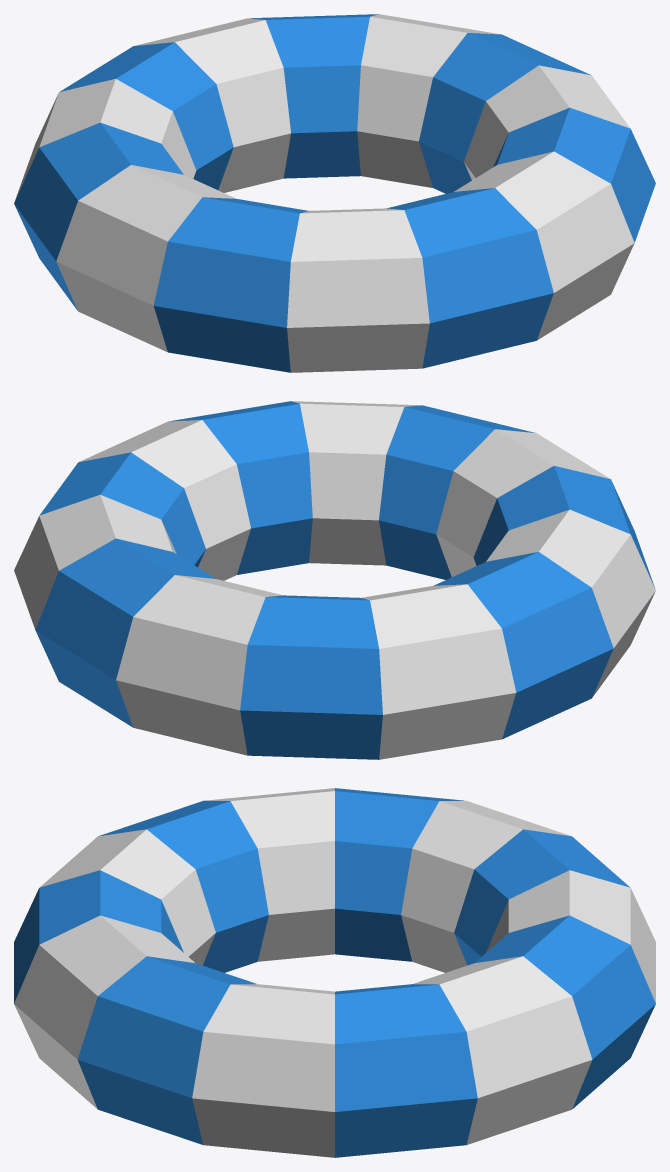
Rendered from Floater.fbx.
3 renders of one model, top to bottom at view 1: azimuth 30°, elevation 25°; view 2: azimuth 150°, elevation 25°; view 3: azimuth 270°, elevation 25°, orthographic. The views are drawn at different scales.
Parts seen in each view (by area): view 1: Floater; view 2: Floater; view 3: Floater.
Part boxes in pixels (x1,y1,x2,y2): Floater: (14,14,655,372); Floater: (14,401,655,759); Floater: (14,788,655,1157).
Bounding box in the file's own units: 320 × 86 × 312.
